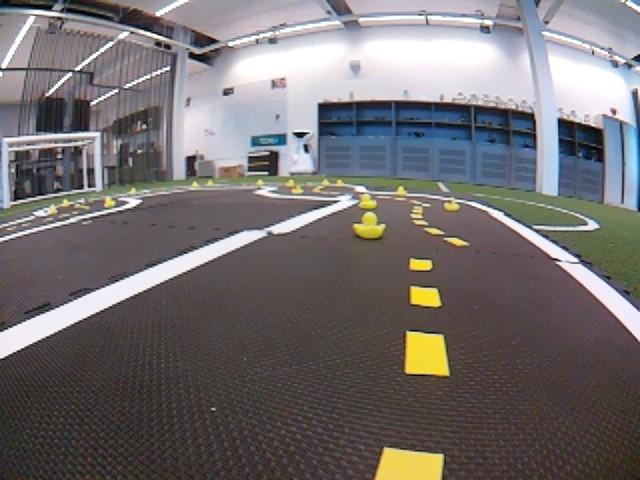Duckies: (351, 212, 387, 240), (357, 194, 379, 211), (442, 199, 460, 213), (394, 185, 407, 197), (103, 196, 115, 208), (291, 185, 304, 194), (60, 199, 70, 207), (190, 181, 200, 189), (129, 187, 138, 195), (286, 179, 296, 186), (206, 179, 214, 187), (336, 179, 345, 186), (320, 178, 329, 185), (255, 180, 265, 185)
